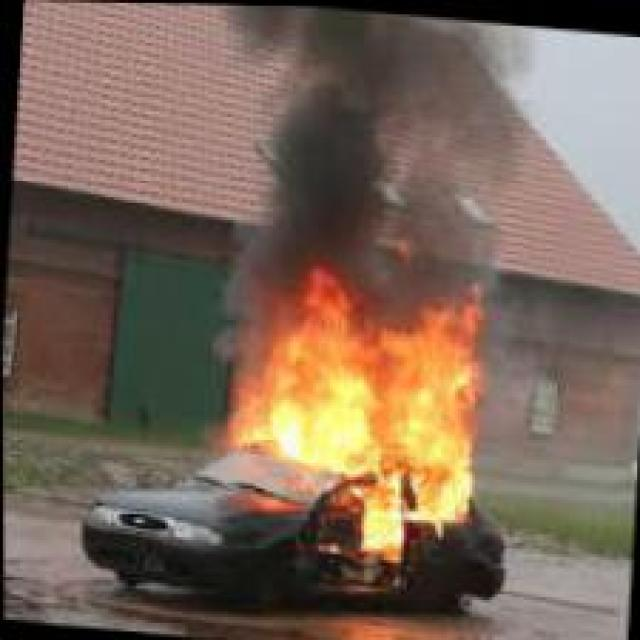Fire: (214, 240, 524, 534)
Smoke: (191, 2, 584, 272)
